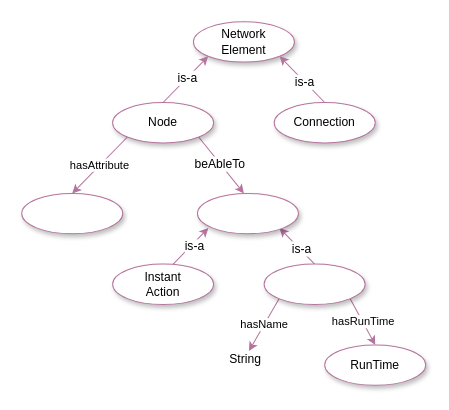
This 449x410 diagram has some shape labels left out. Here are the shapes that lost their labels. From the top down, the centre of each, then its label:
At [73,214]: "Attribute".
At [248,214]: "Action".
At [315,285]: "Persistent Action".
